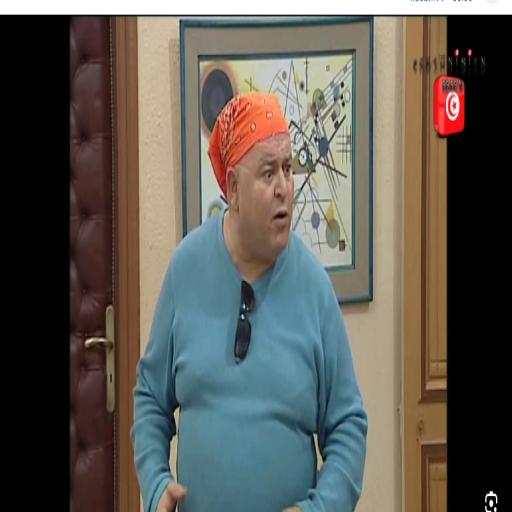sboui: (209, 95, 292, 264)
